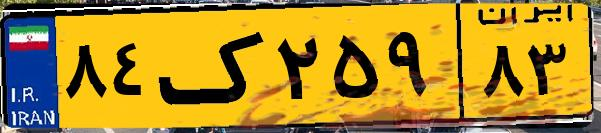2: (270, 28, 330, 110)
3: (525, 38, 570, 115)
4: (110, 28, 158, 98)
5: (330, 28, 385, 110)
8: (57, 26, 110, 100), (475, 38, 525, 113)
9: (385, 28, 445, 110)
ک: (158, 12, 270, 120)
